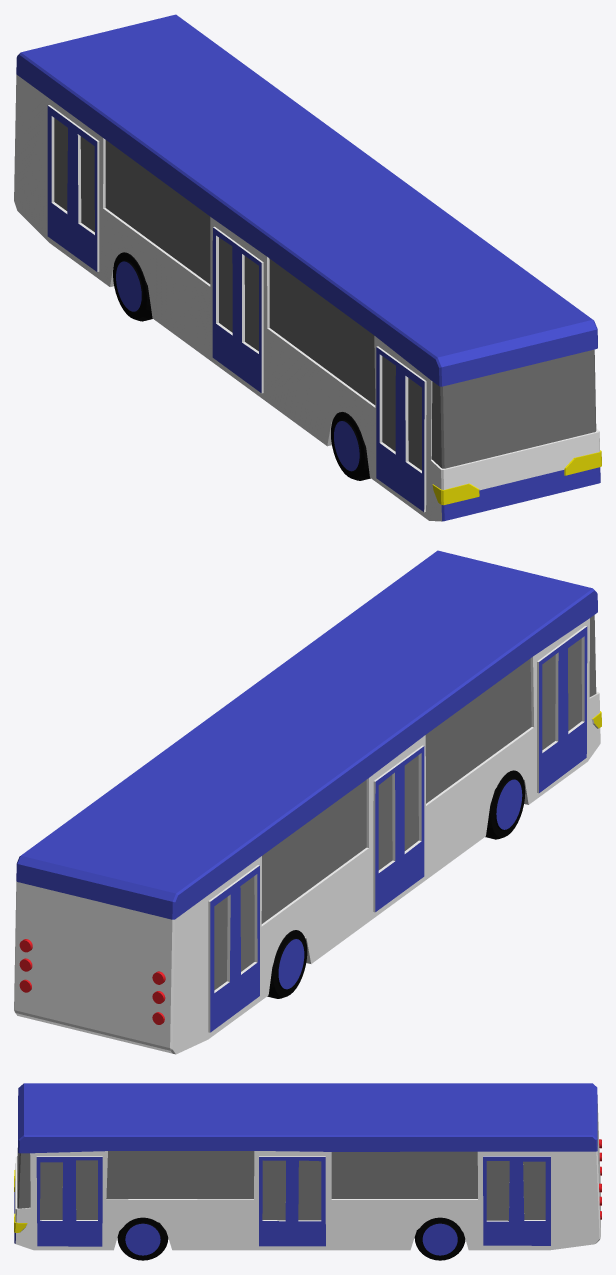
Rendered from Пробка Авто 6.fbx.
3 views of the same model, one above another, from view 1: azimuth 30°, elevation 25°; view 2: azimuth 150°, elevation 25°; view 3: azimuth 270°, elevation 25° (orthographic). The views are drawn at different scales.
Visible parts, largest first — view 1: Cube; view 2: Cube; view 3: Cube.
Part boxes in pixels (x1,y1,x2,y2): Cube: (14,14,601,521); Cube: (14,550,601,1054); Cube: (14,1083,601,1260).
Size of the model in its own units: 71.38 by 77.75 by 328.
